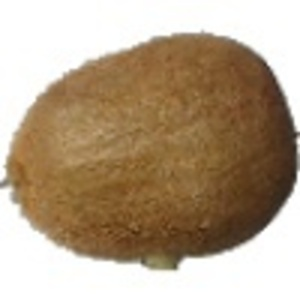kiwi: (1, 32, 300, 275)
